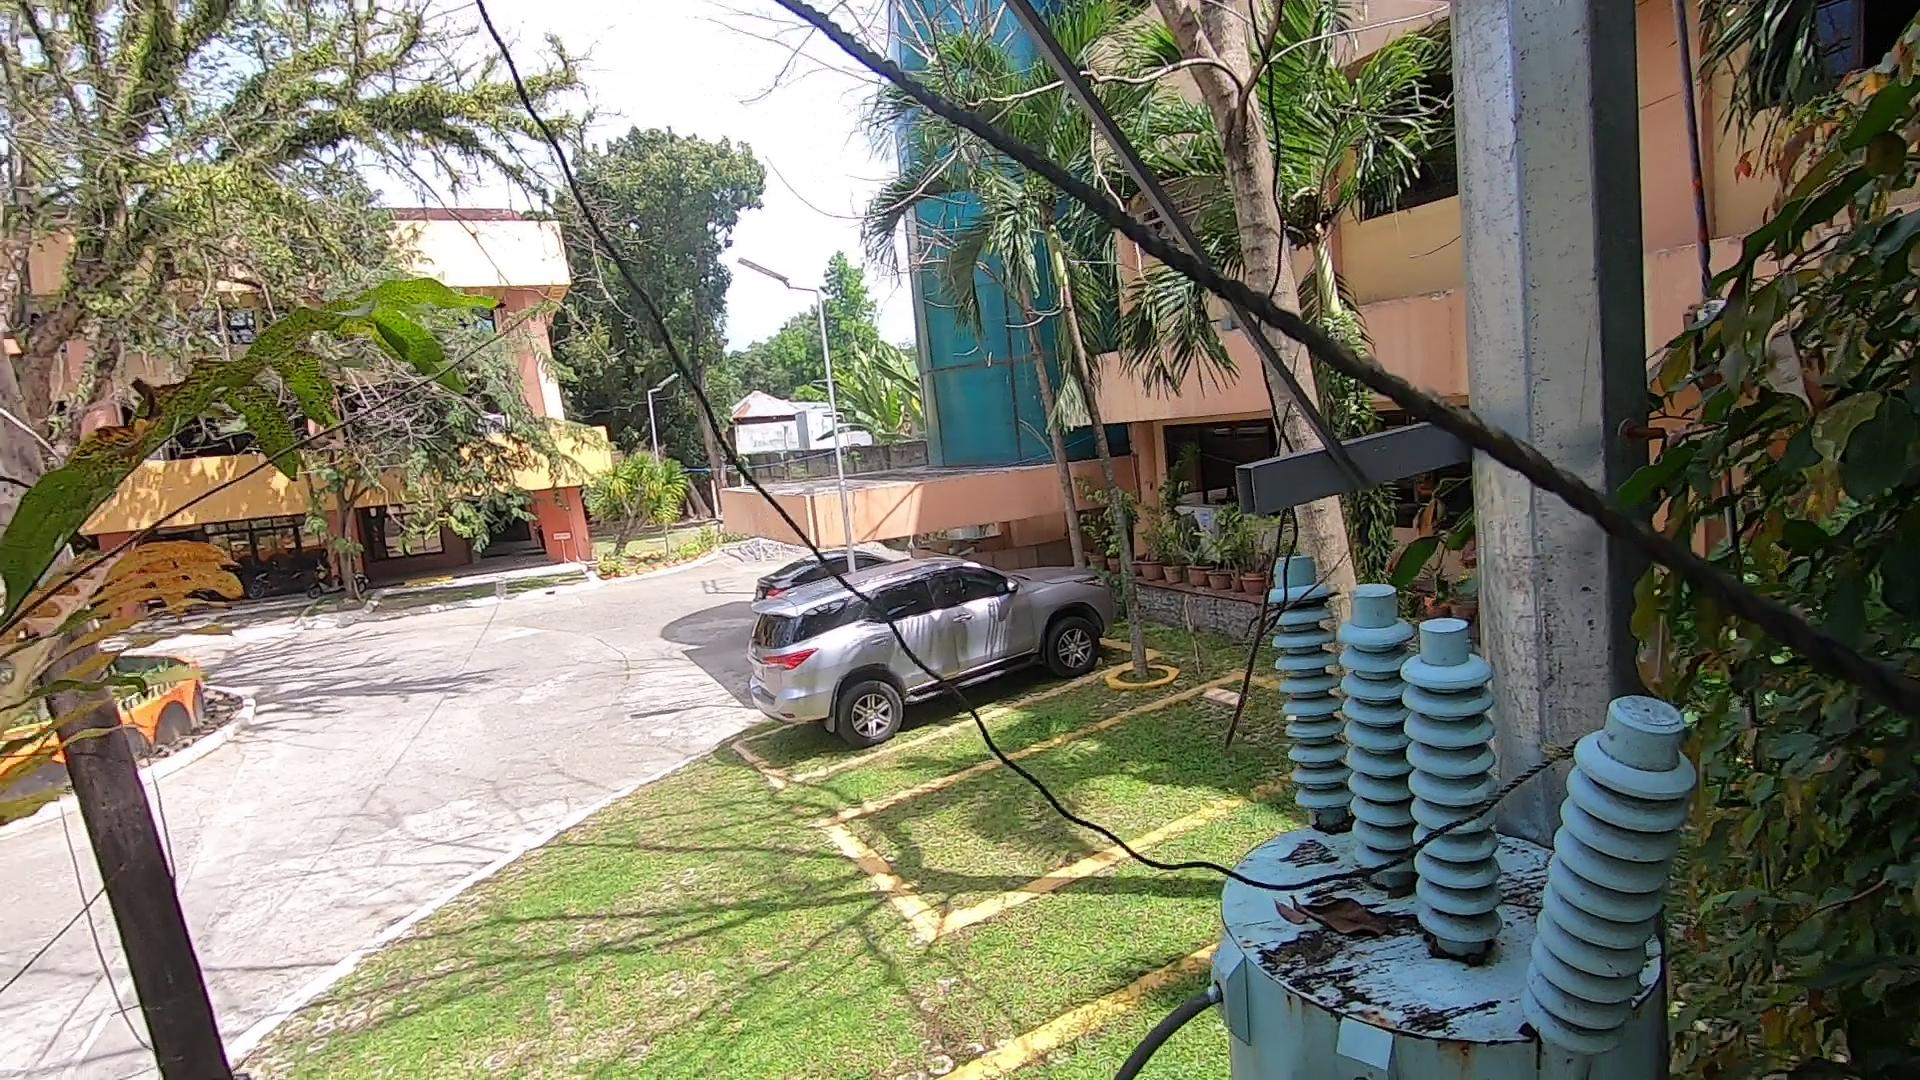leaf: (1240, 880, 1400, 953), (1309, 802, 1364, 847)
tree branch: (1185, 293, 1329, 766)
